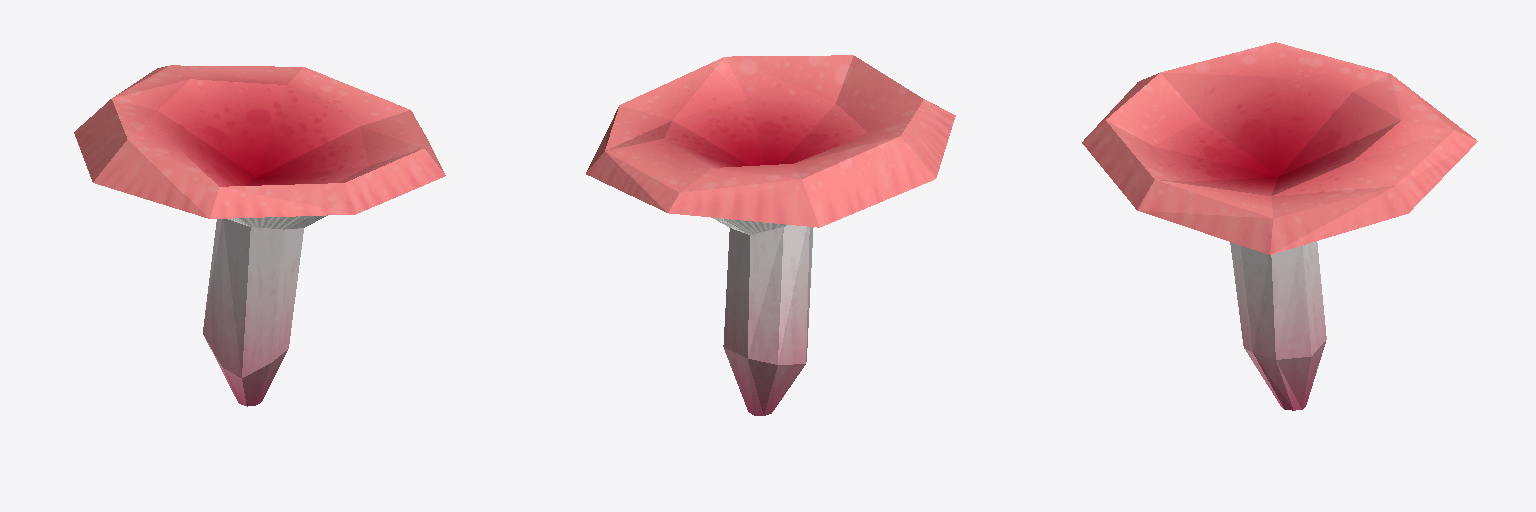
3 renders of one model, left to right at view 1: azimuth 30°, elevation 25°; view 2: azimuth 150°, elevation 25°; view 3: azimuth 270°, elevation 25°, orthographic.
Visible parts, largest first — view 1: russula_pink_low; view 2: russula_pink_low; view 3: russula_pink_low.
Boxes of the visible parts, x1,y1,x2,y2 form: russula_pink_low: [74, 65, 445, 406]; russula_pink_low: [586, 55, 955, 415]; russula_pink_low: [1082, 42, 1477, 410].
Bounding box in the file's own units: 0.7168 × 0.6209 × 0.7431.
1 materials, 1 textured.